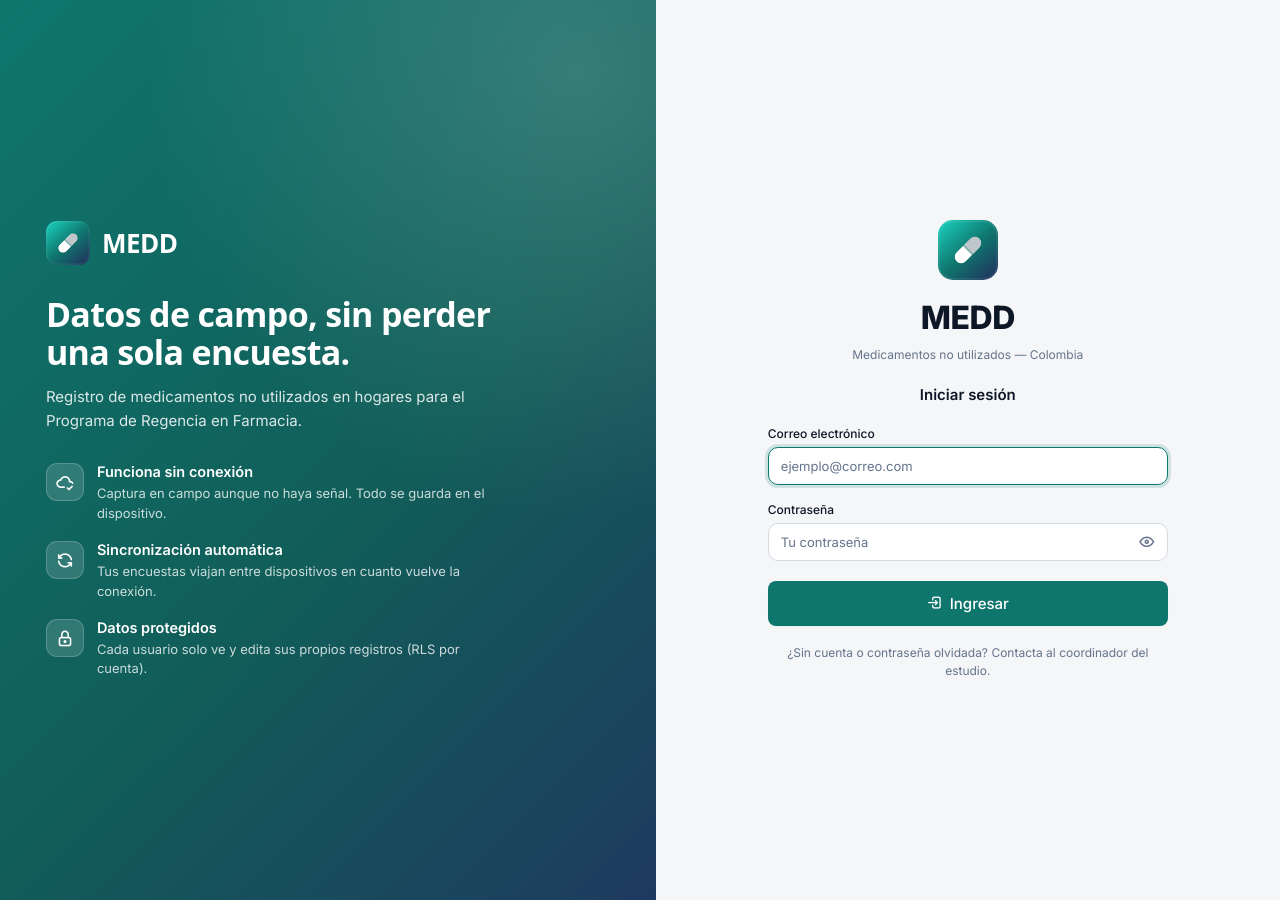
AuthPage error handling › shows generic error on network failure (thrown exception)
Type "test@example.com" into the field labelled "Correo electrónico" at (968, 466), box [768,447,1168,485]
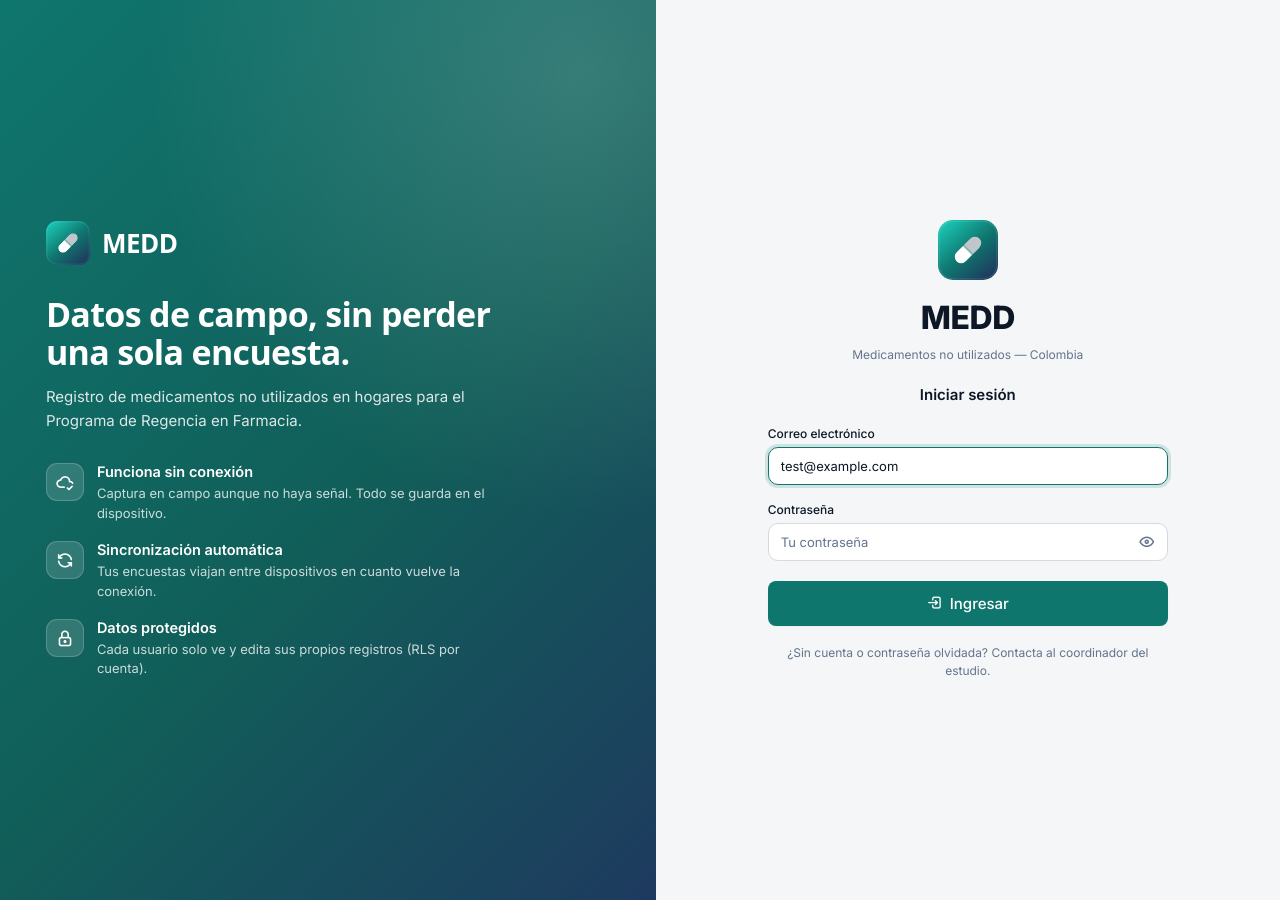
Type "password123" into the password field labelled "Contraseña" at (968, 542), box [768,523,1168,561]
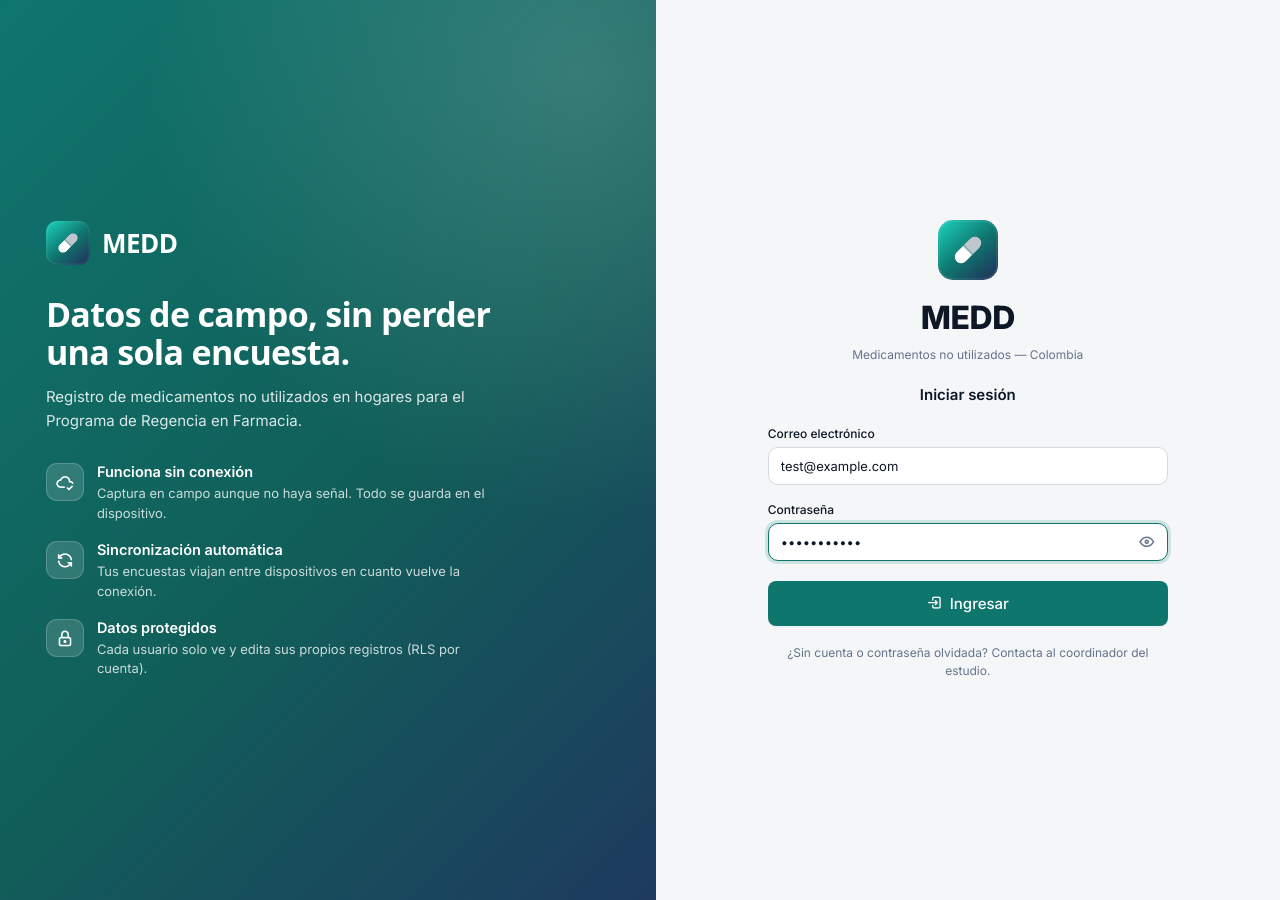
Click the button "Ingresar" at (968, 603), box [768,581,1168,626]
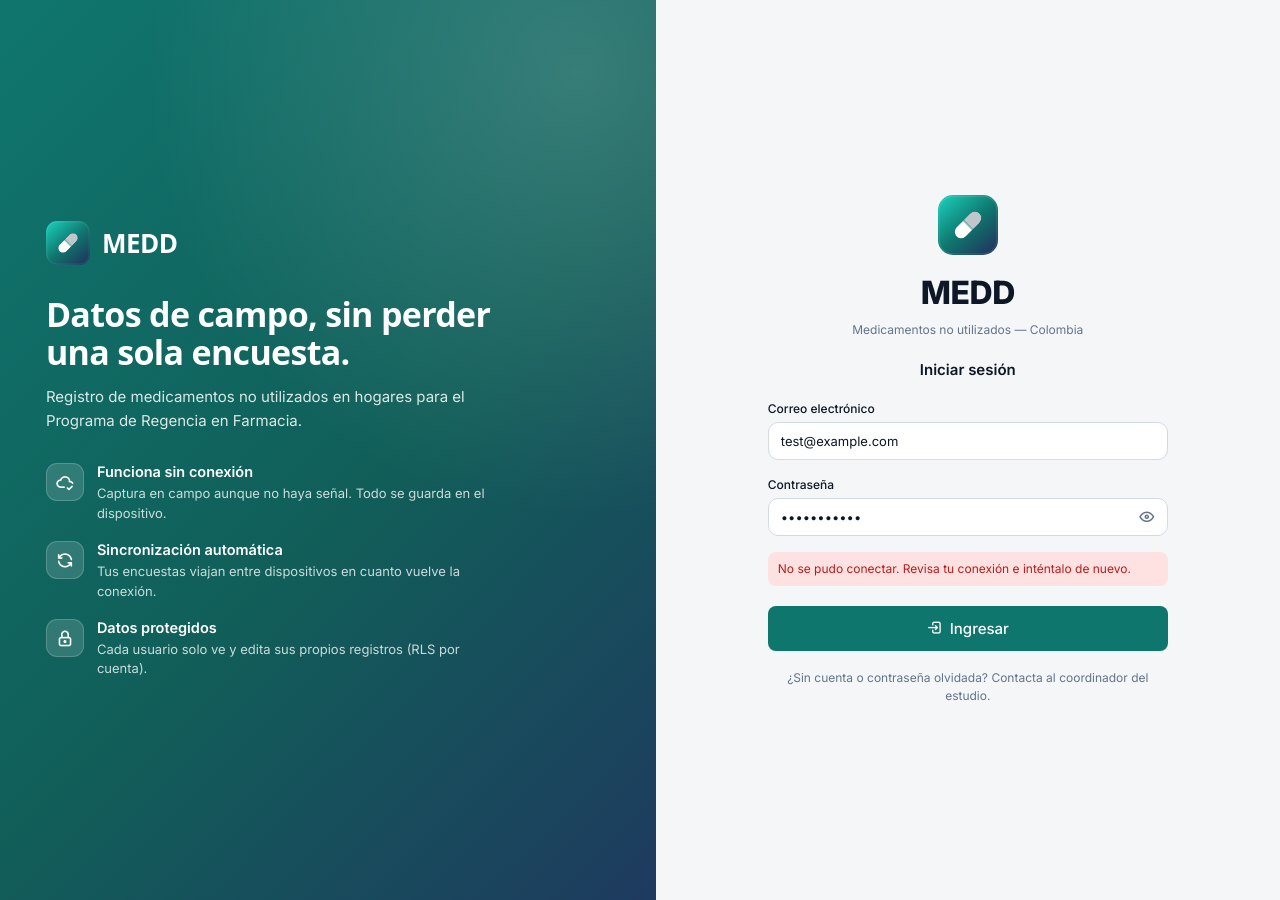
Check: the button "Ingresar" is enabled, box [768,606,1168,651]
Check: the text "No se pudo conectar. Revisa tu conexión e inténtalo de nuevo." is shown, box [768,552,1168,586]
